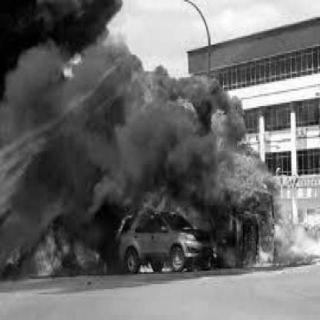Fire: (113, 54, 281, 272)
Smoke: (16, 58, 178, 214)
